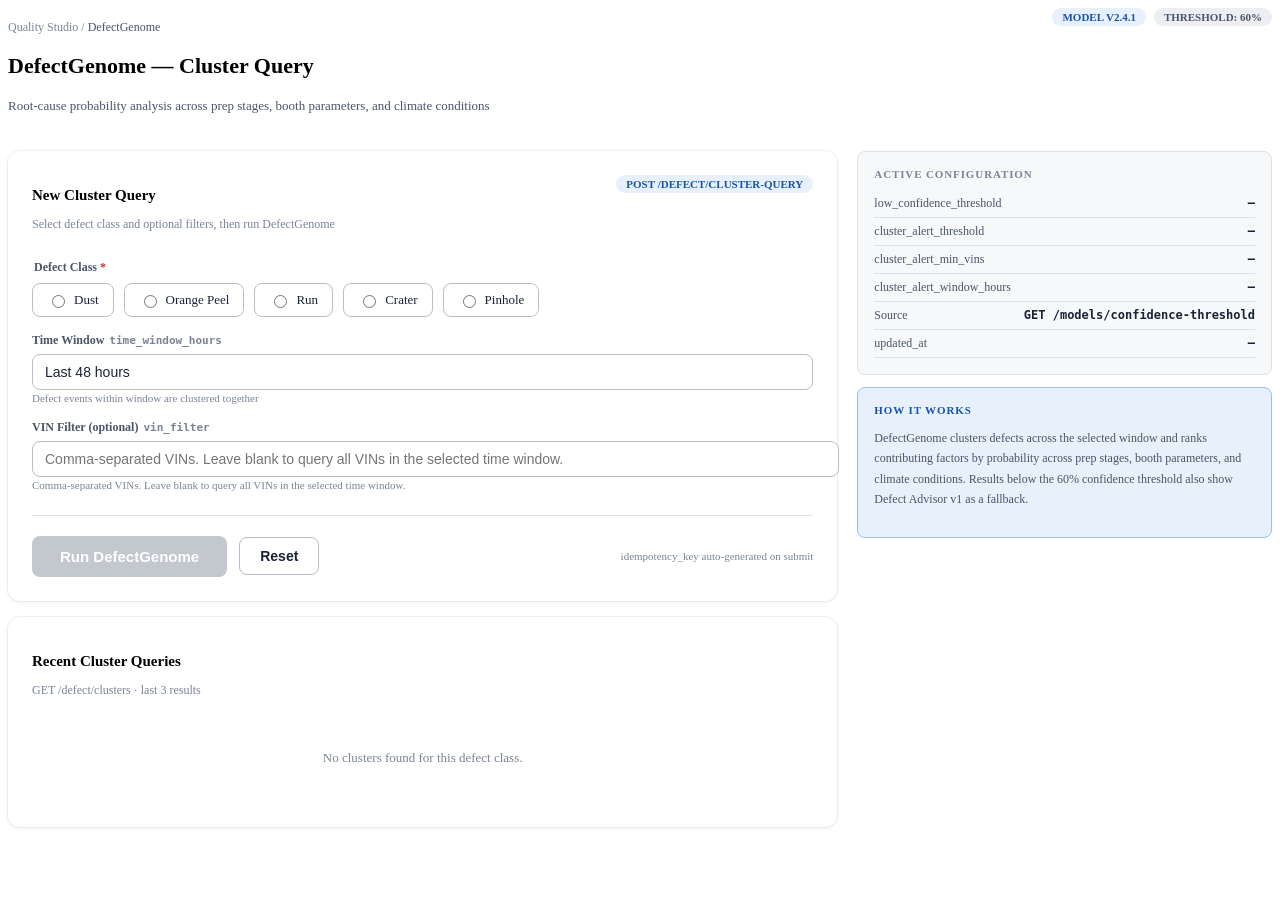
Test: DefectGenomePage — confirmation modal pre-population › modal shows cluster_id
This screenshot has width=1280, height=900.
What coordinates should you click on to do the following:
click the radio button with test id "radio-dust"
I would click on:
 (58, 301)
Its box is [52,295,65,308].
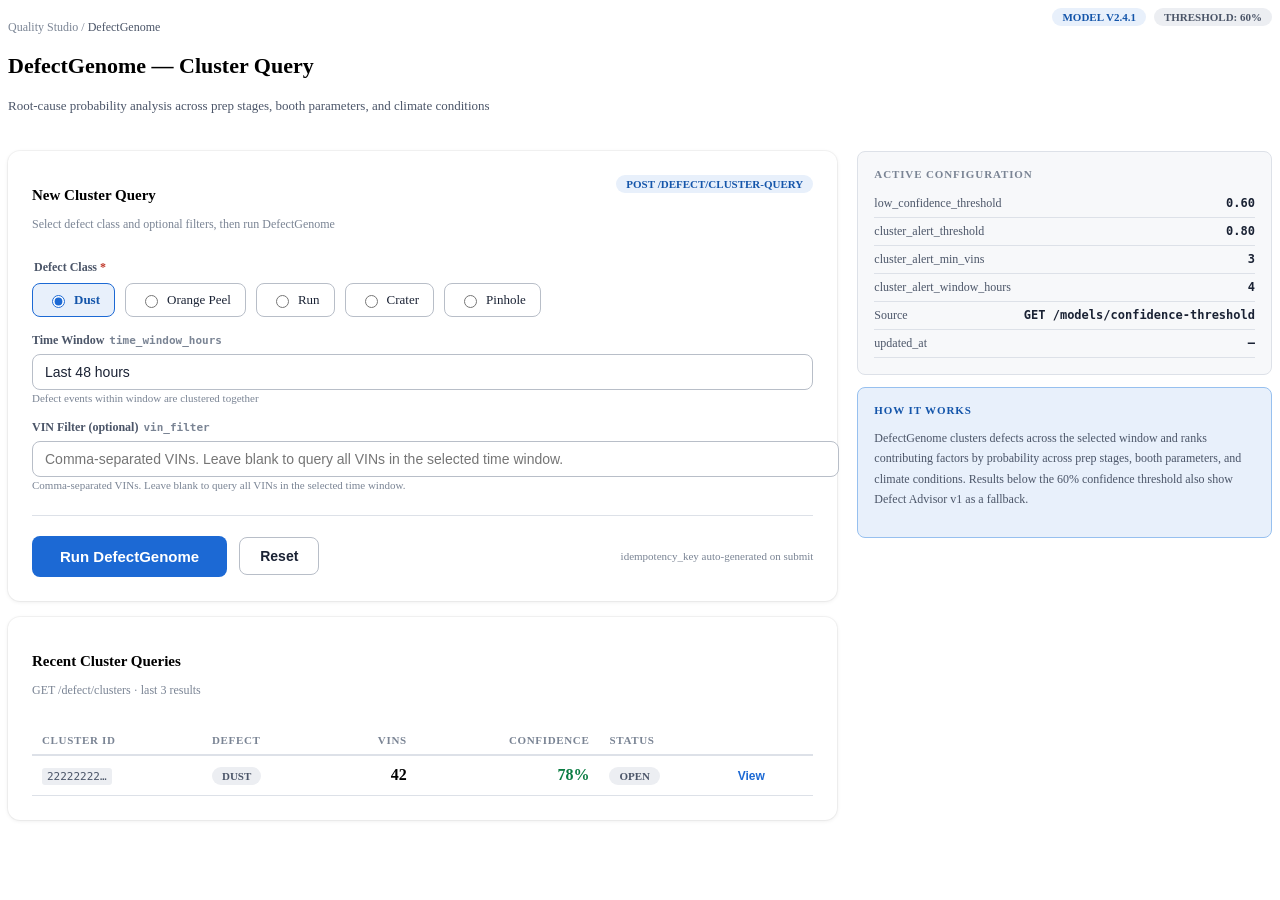
What coordinates should you click on to do the following:
click the button with test id "run-defect-genome-btn"
I would click on:
 (130, 556)
Its box is [32,536,227,577].
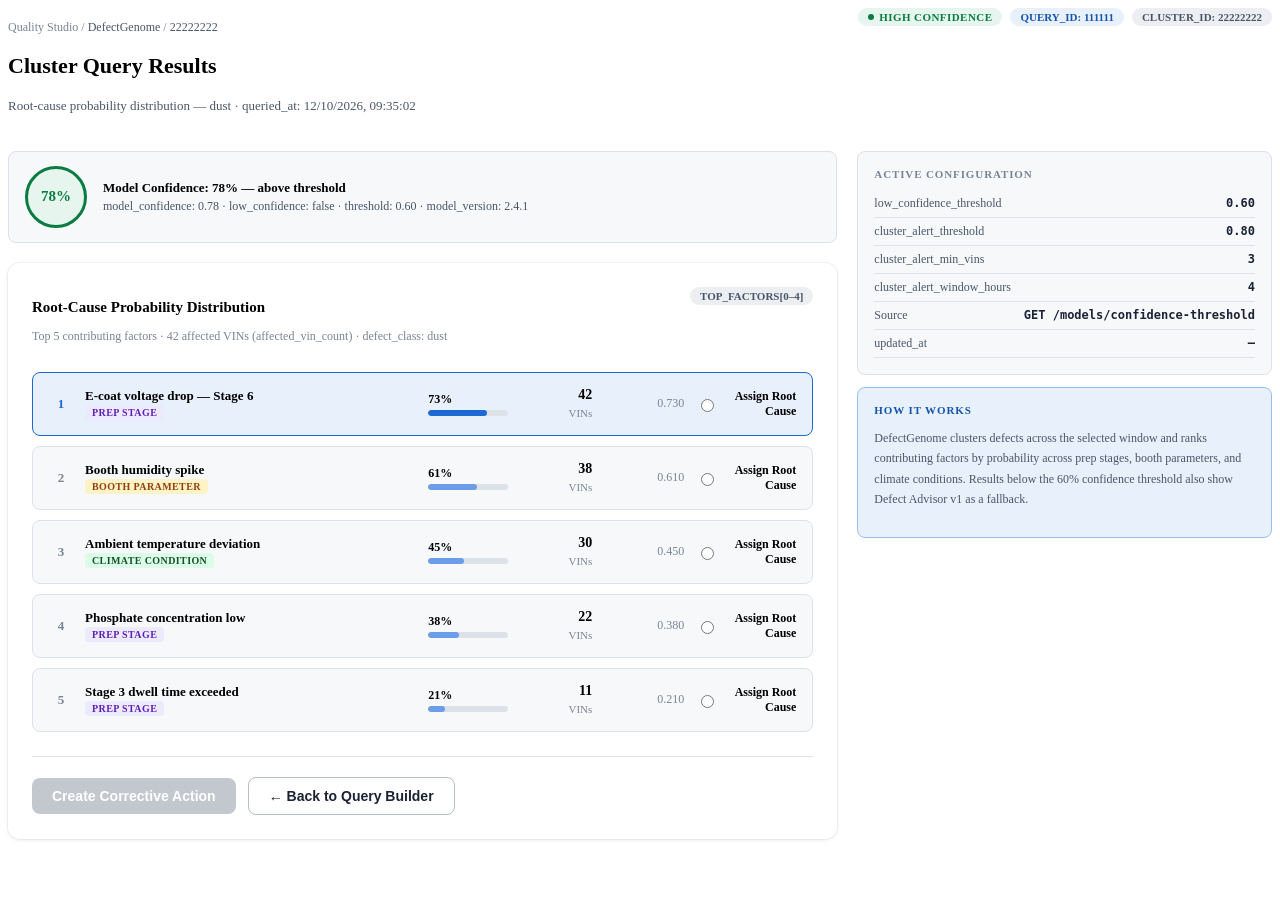
Expected: the element with test id "factor-list" is shown, [32,372,813,732]
What coordinates should you click on to do the following:
click the radio button with test id "factor-radio-1"
I would click on:
 (708, 405)
Its box is [701,399,714,412].
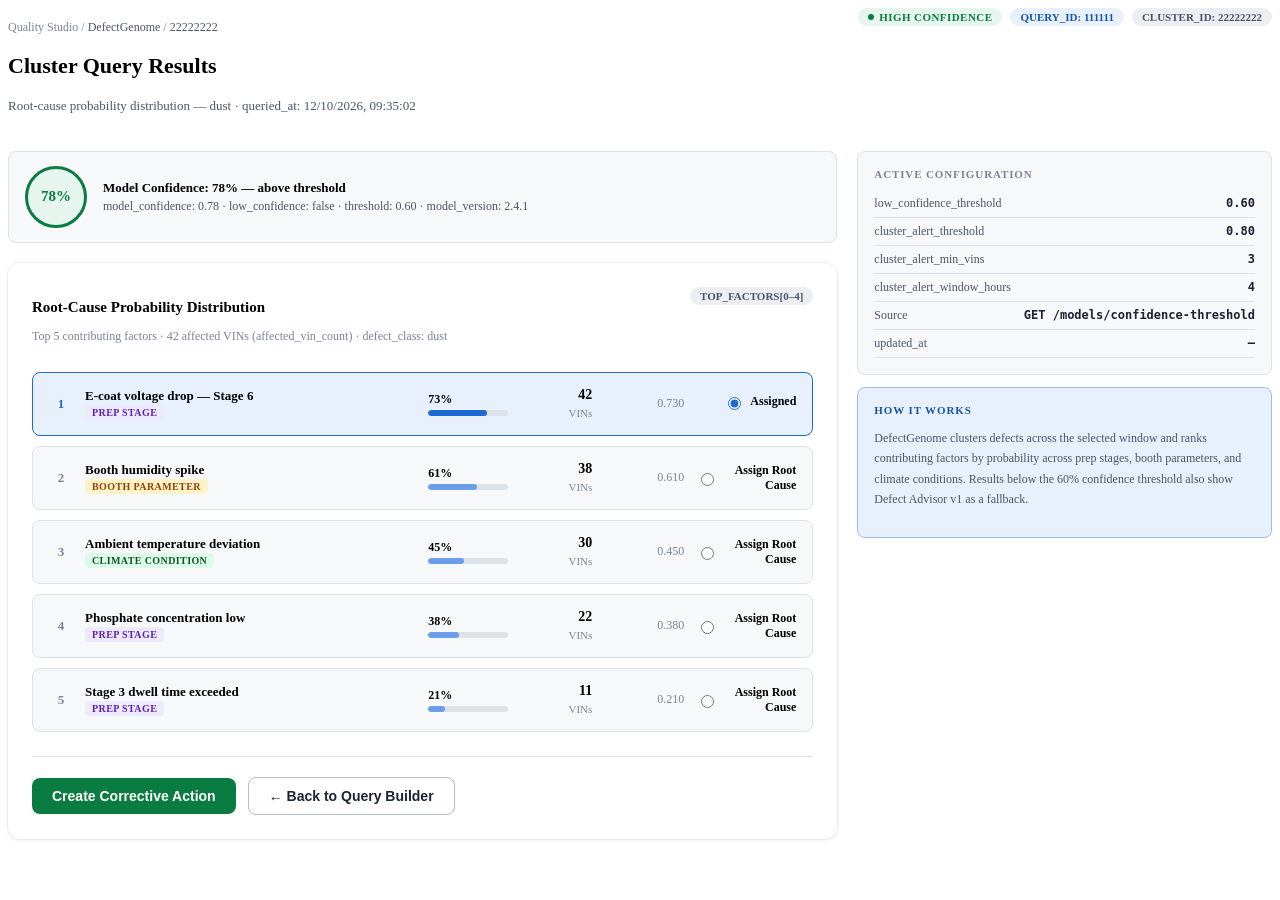
What coordinates should you click on to do the following:
click the button with test id "create-corrective-action-btn"
I would click on:
 (134, 796)
Its box is [32,778,236,814].
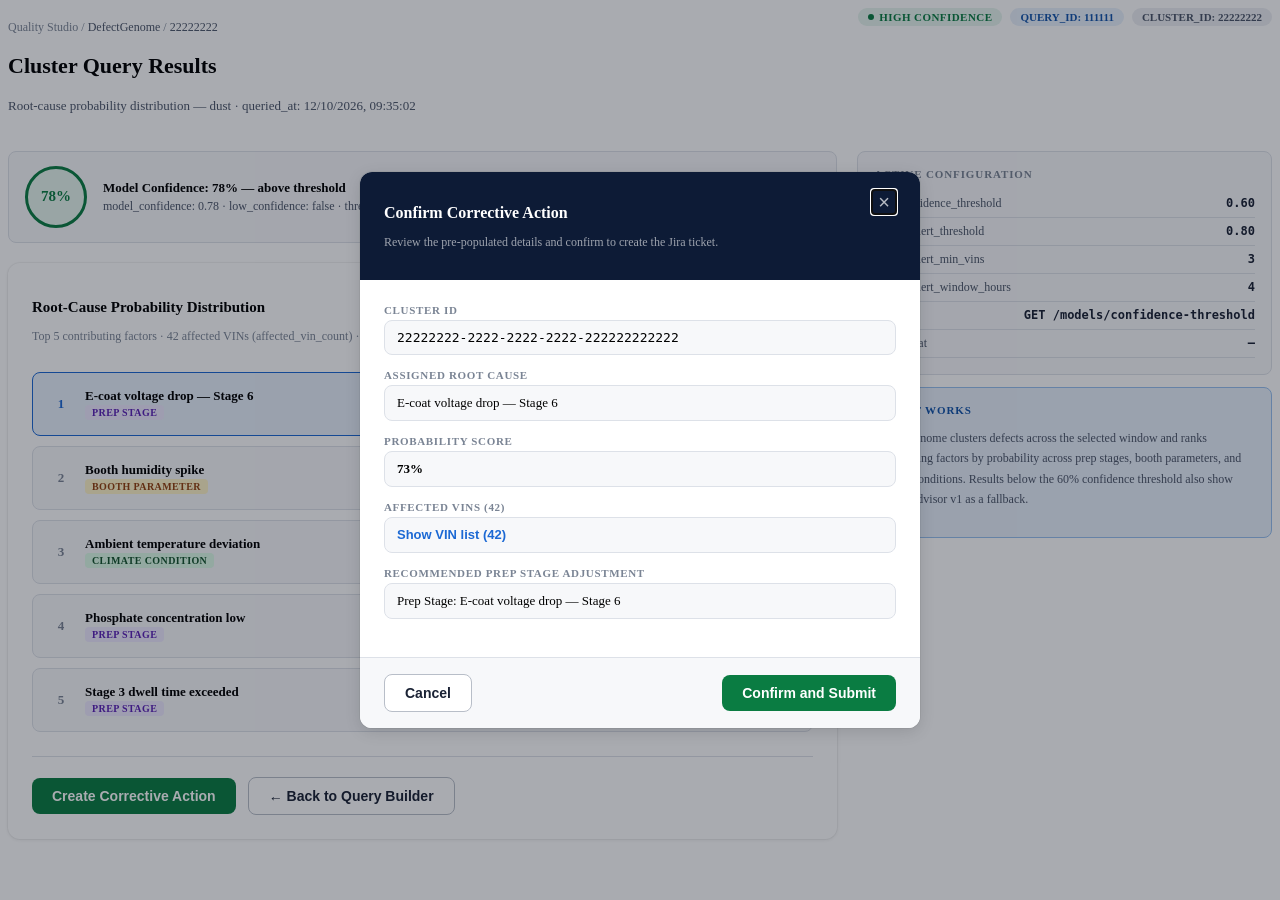
Expected: the dialog with test id "corrective-action-modal" is shown
Expected: the text with test id "modal-cluster-id" reads "22222222-2222-2222-2222-222222222222", [397,330,679,345]
